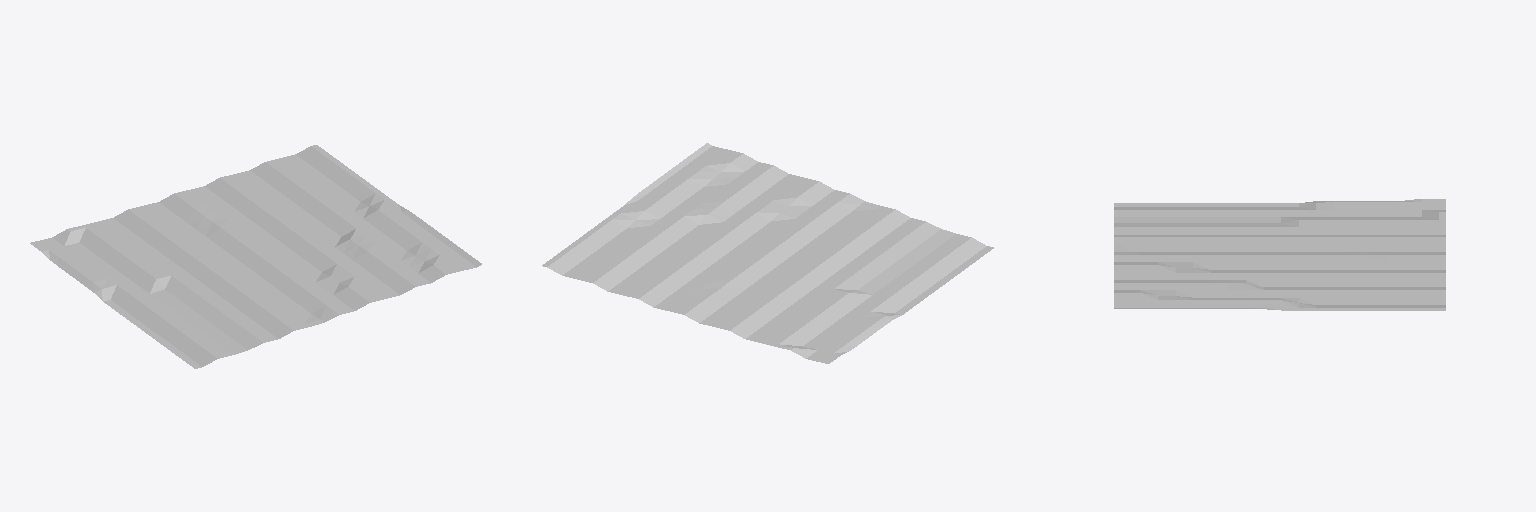
Rendered from terrain_-5_4.obj.
3 views of the same model, side by side, from view 1: azimuth 30°, elevation 25°; view 2: azimuth 150°, elevation 25°; view 3: azimuth 270°, elevation 25° (orthographic).
Visible parts, largest first — view 1: terrain_-5_4_Plane.056; view 2: terrain_-5_4_Plane.056; view 3: terrain_-5_4_Plane.056.
Part boxes in pixels (x1,y1,x2,y2): terrain_-5_4_Plane.056: (30, 145, 481, 368); terrain_-5_4_Plane.056: (542, 143, 993, 363); terrain_-5_4_Plane.056: (1114, 199, 1445, 310).
Size of the model in its own units: 32 by 3.7 by 32.